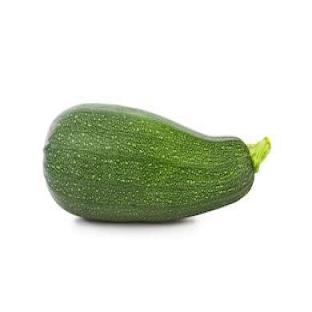Zucchini: (44, 105, 270, 221)
